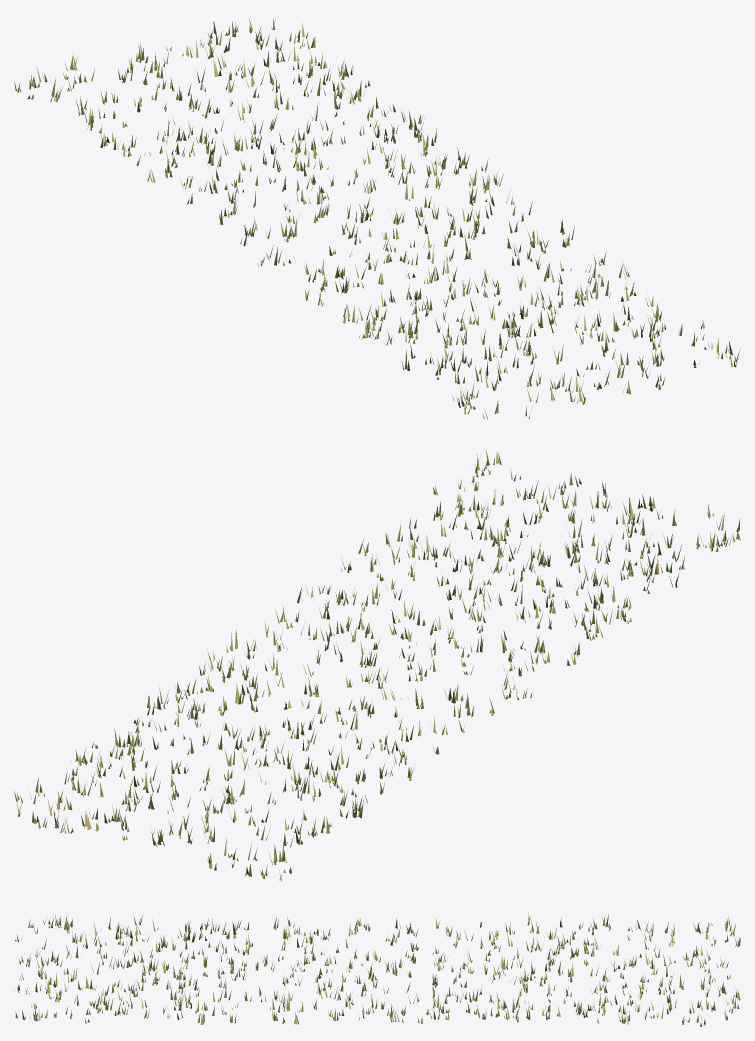
Rendered from Meadow_GrassPatch_04.obj.
The picture shows the model from 3 angles, top to bottom: view 1: azimuth 30°, elevation 25°; view 2: azimuth 150°, elevation 25°; view 3: azimuth 270°, elevation 25°; orthographic projection. The views are drawn at different scales.
Parts seen in each view (by area): view 1: Meadow_GrassPatch_04; view 2: Meadow_GrassPatch_04; view 3: Meadow_GrassPatch_04.
Boxes of the visible parts, bbox=[...] form: Meadow_GrassPatch_04: bbox=[14, 18, 740, 419]; Meadow_GrassPatch_04: bbox=[14, 449, 740, 881]; Meadow_GrassPatch_04: bbox=[14, 912, 740, 1026].
Size of the model in its own units: 5.71 by 0.4212 by 16.97.
1 material, 1 textured.
